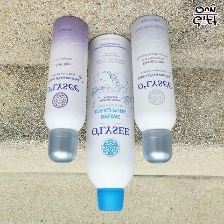aerosol_cans: (82, 30, 141, 215), (40, 11, 94, 166), (125, 10, 178, 167)
